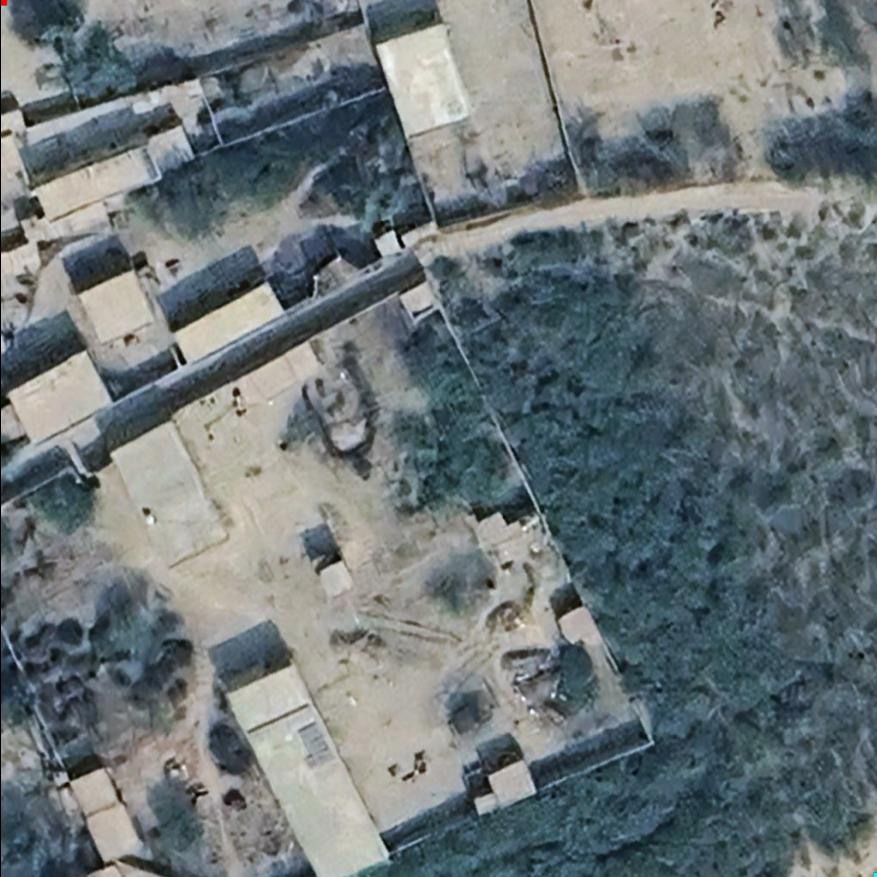Solarpanel: (286, 719, 337, 775)
